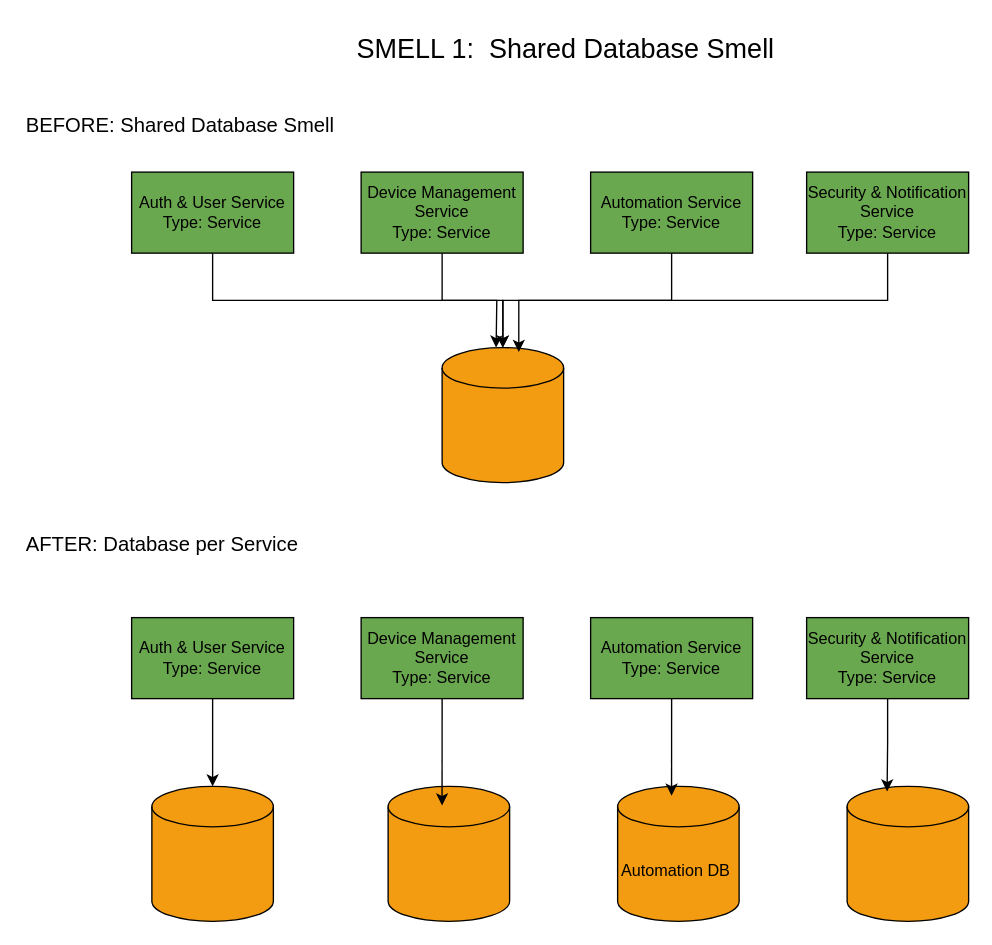
Image size: 992x945. Some labels were removed from this diagram. The shapes that lost their labels are listed below. From the top down, each one's centre as x and y in pixels, then its label:
point (502, 414): Database
point (212, 853): Auth DB
point (448, 853): Device DB
point (907, 853): Security DB
